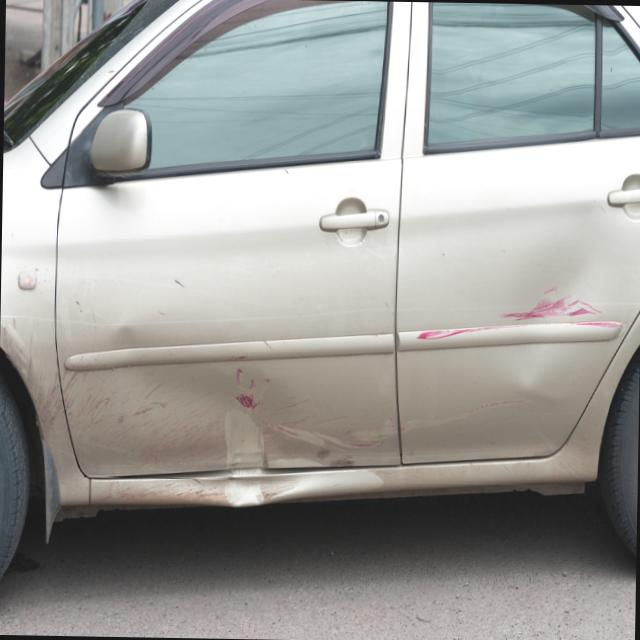Cabossage: (216, 406, 310, 509)
Rayure: (30, 363, 224, 507), (230, 368, 537, 458), (407, 277, 628, 353)
